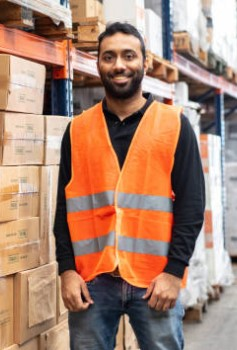worker: (64, 22, 182, 288)
